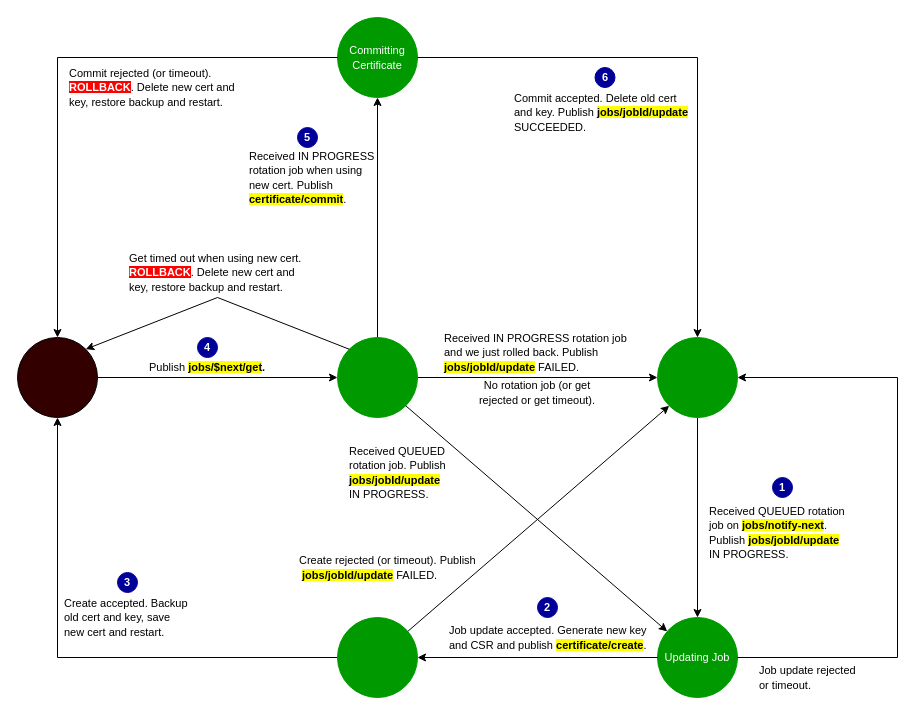
Some shapes in this 923 by 715 pixel diagram are drawn without their labels. Here are the shapes that lost their labels. From the top down, the centre of each, then its label:
At (x=57, y=377): "Start".
At (x=377, y=377): "Getting Job".
At (x=697, y=377): "Idle".
At (x=377, y=657): "Creating Certificate".
